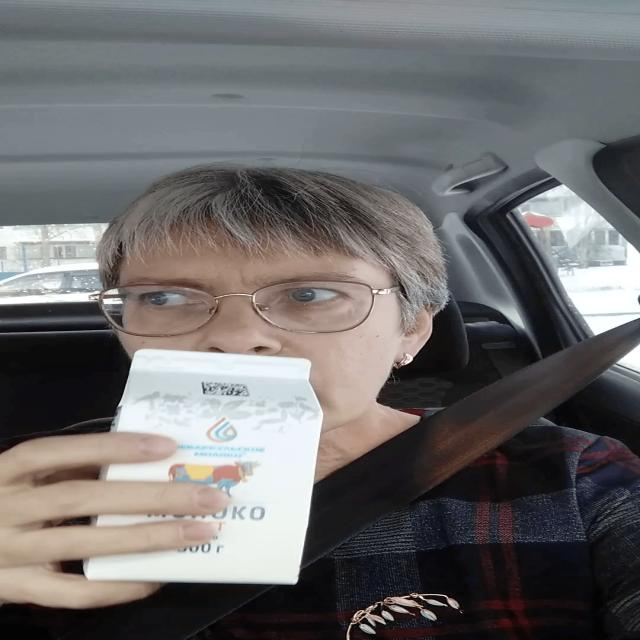3: (313, 329, 628, 560)
Seatbelt: (86, 342, 330, 594)
